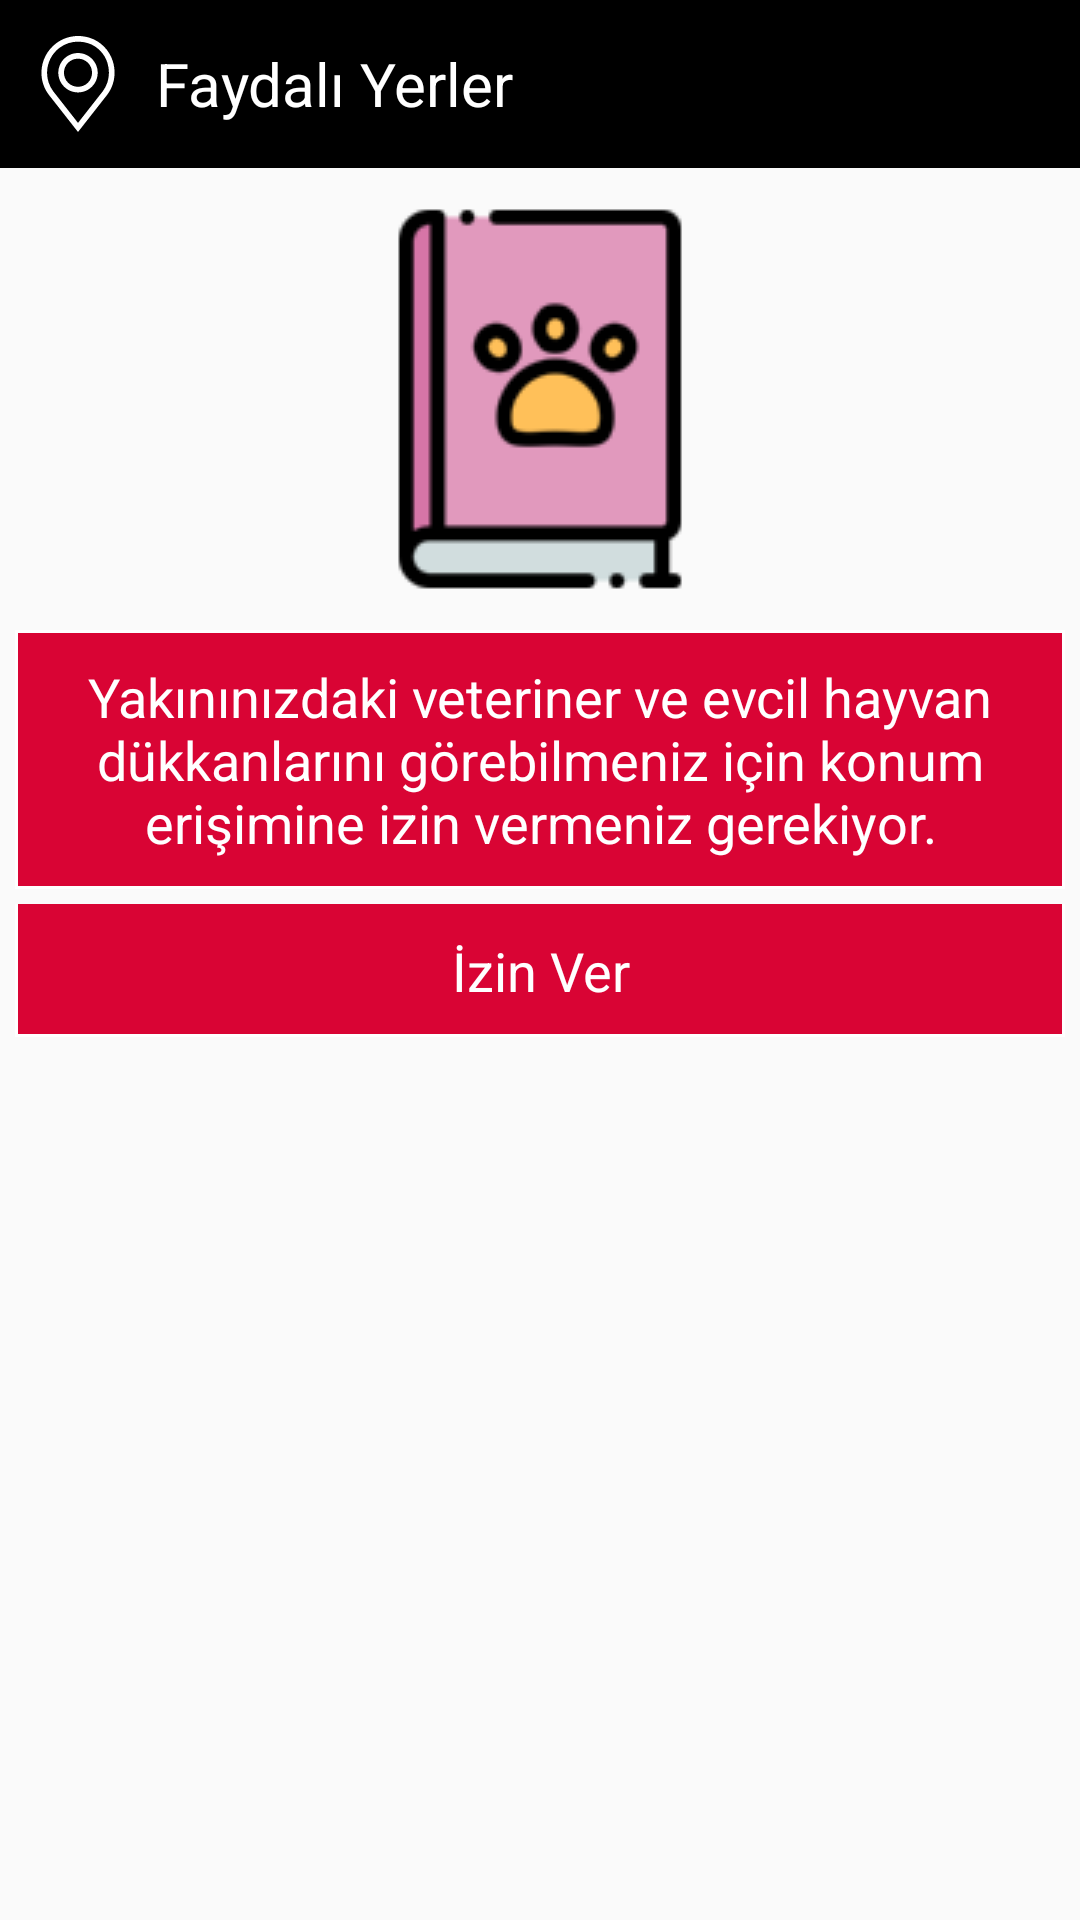

Where to tap for icons on this 1080px x 1920px app screen, as point (x, y):
map bwhite: point (78, 84)
